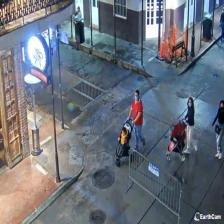person: (128, 90, 142, 153), (183, 96, 197, 154), (211, 100, 224, 159)
